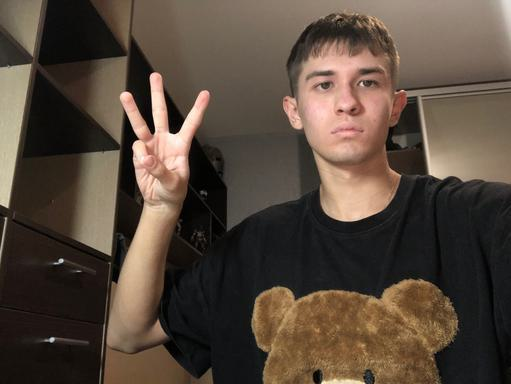three: (117, 69, 213, 208)
